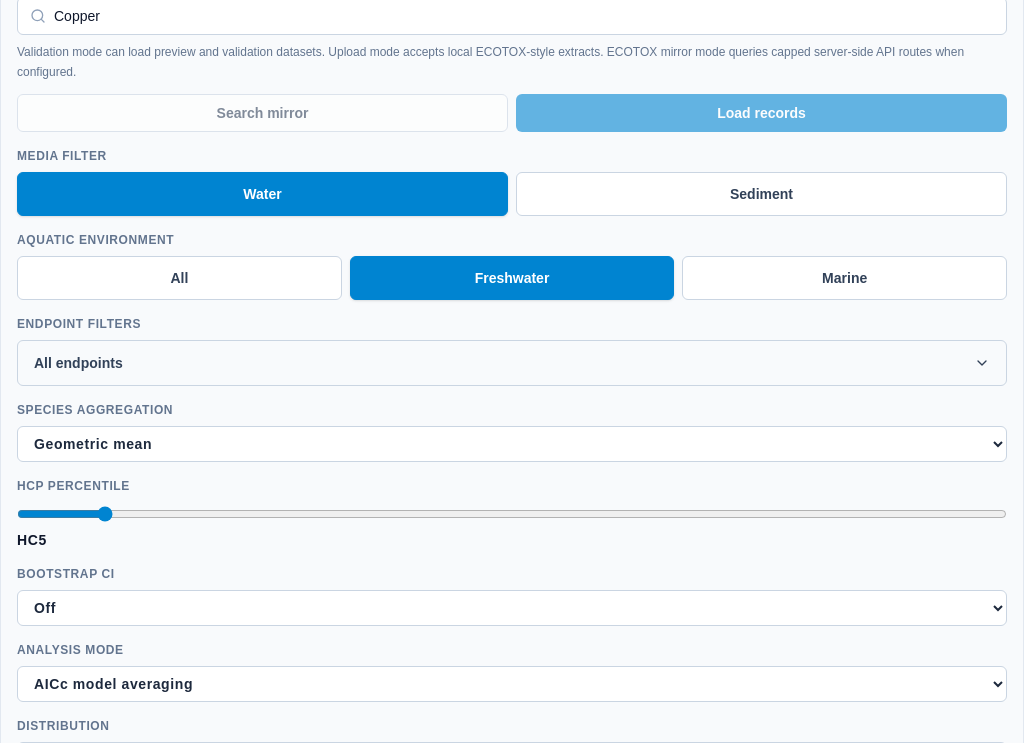
Test case: SsdWorkbench › updates endpoint filters and reports excluded rows
(page scrolled)
Click the heading "All endpoints": (78, 363) [34,355,990,371]
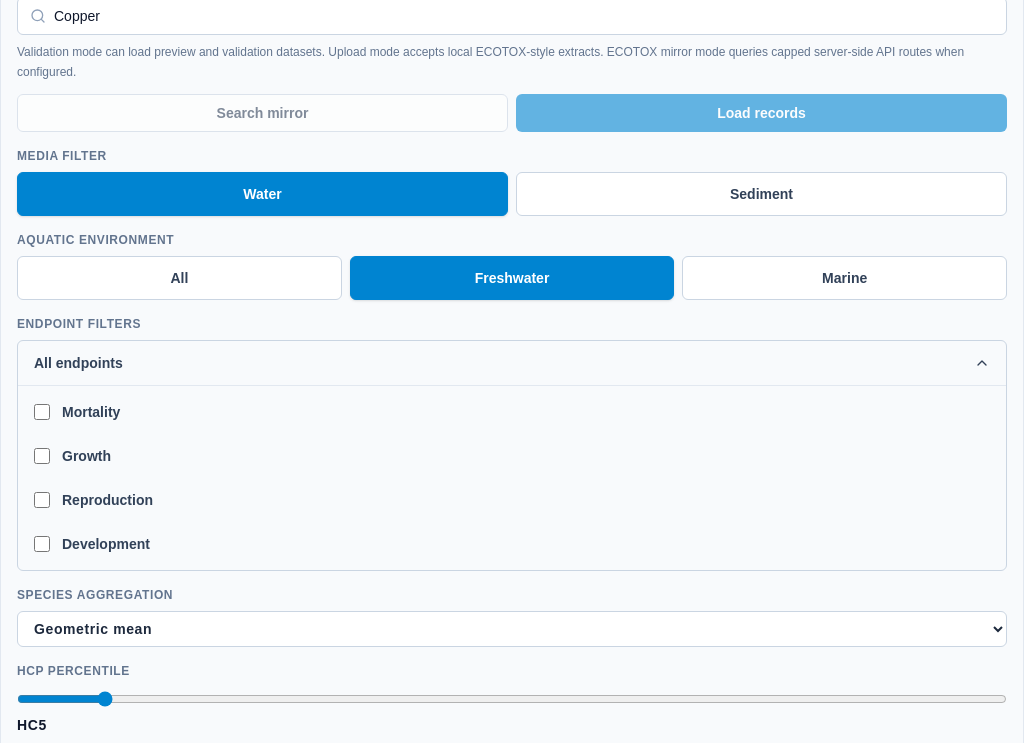
Click the checkbox labelled "Growth": (42, 456) [34,448,50,464]
(page scrolled)
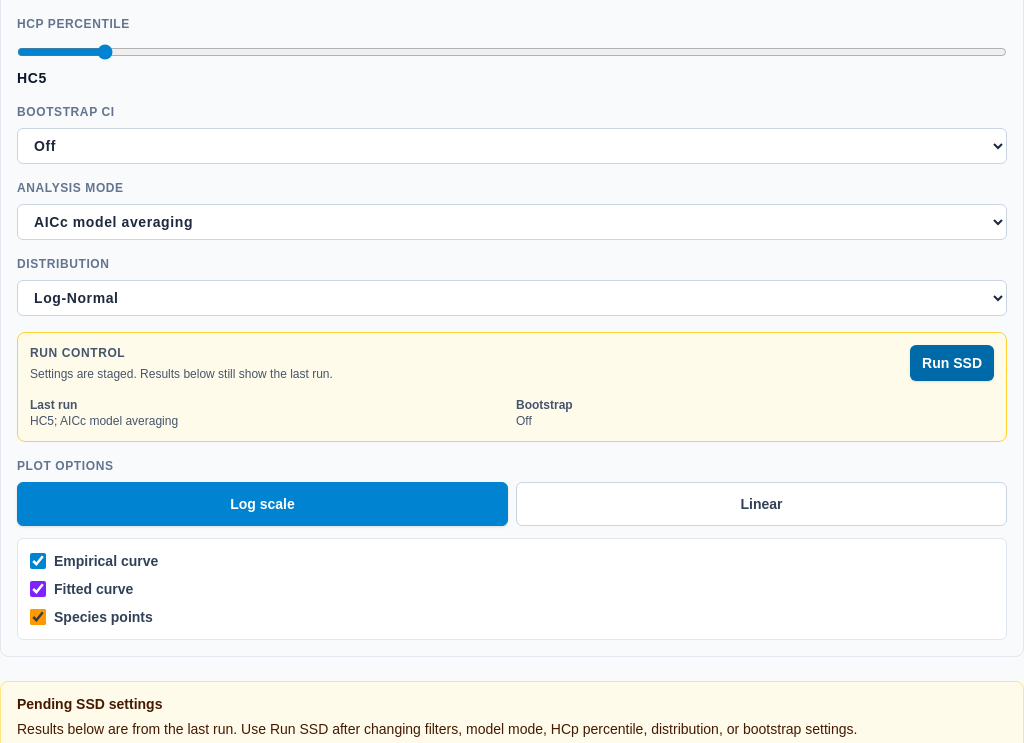
Click the button "Run SSD": (952, 363) [910,345,994,381]
(page scrolled)
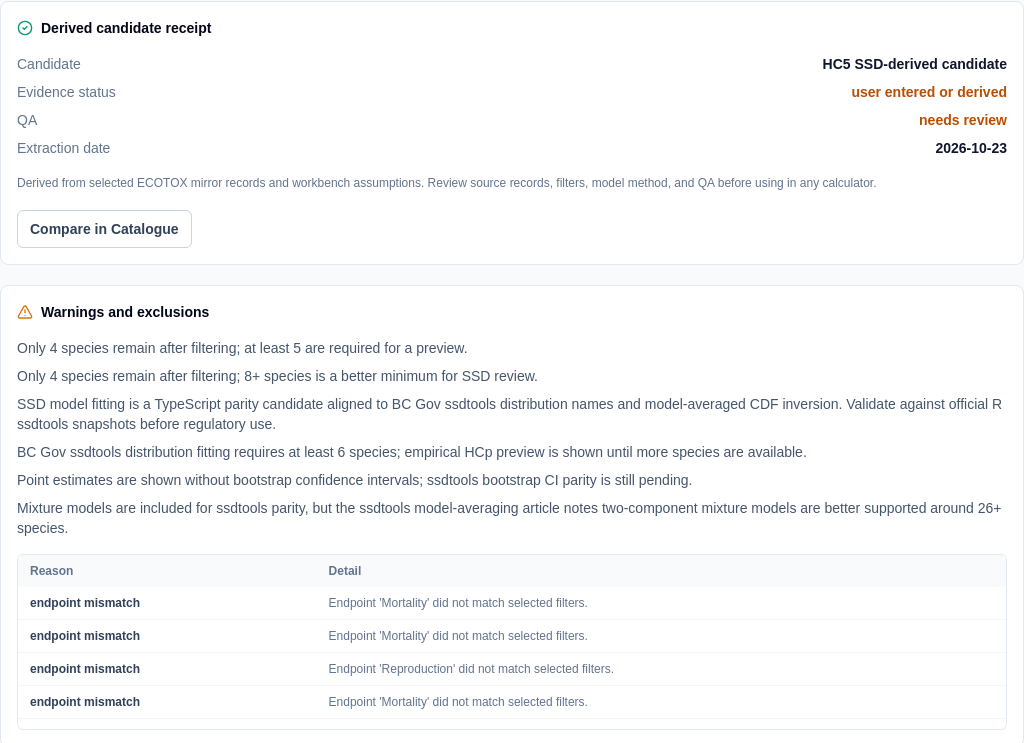
Expected: the 1st text "endpoint mismatch" is shown, [18,587,317,619]
